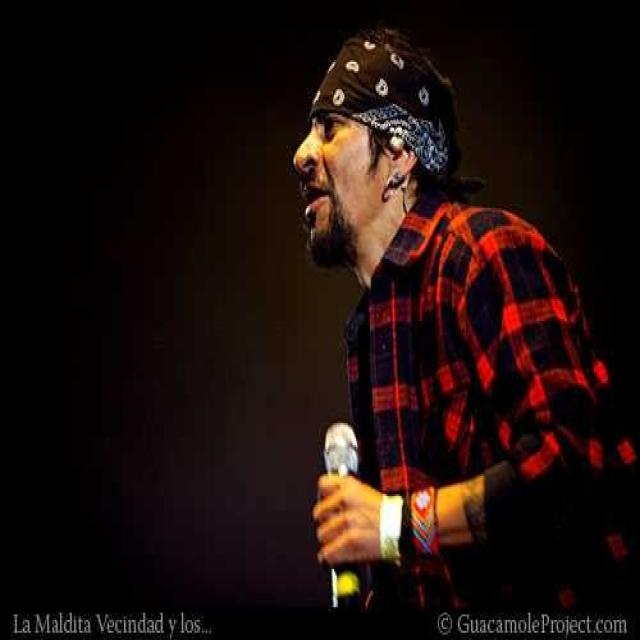microphone: (322, 418, 367, 611)
